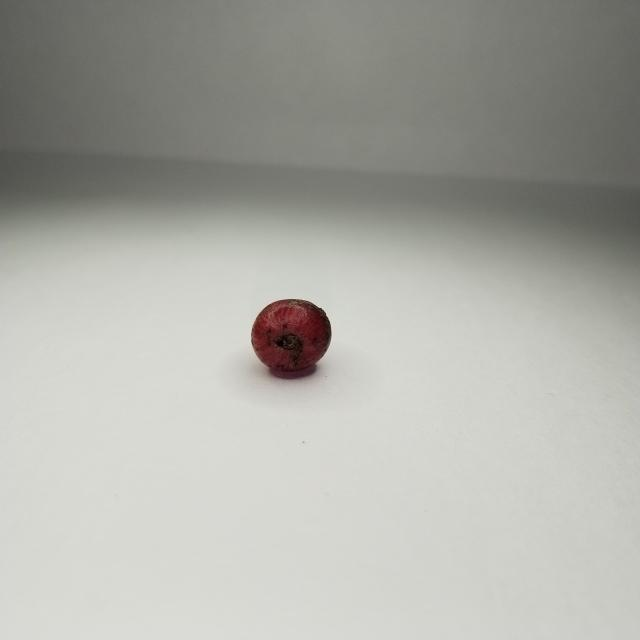Infectado: (250, 300, 332, 372)
